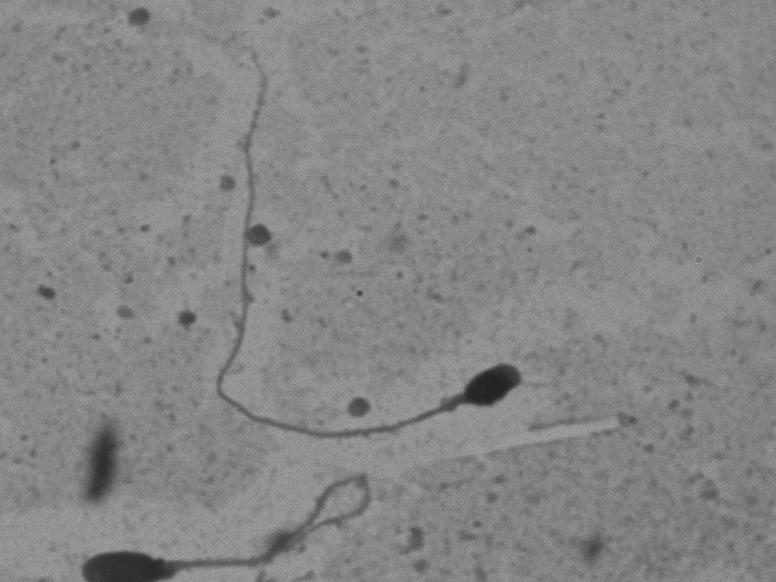Abnormal: (161, 35, 527, 461)
